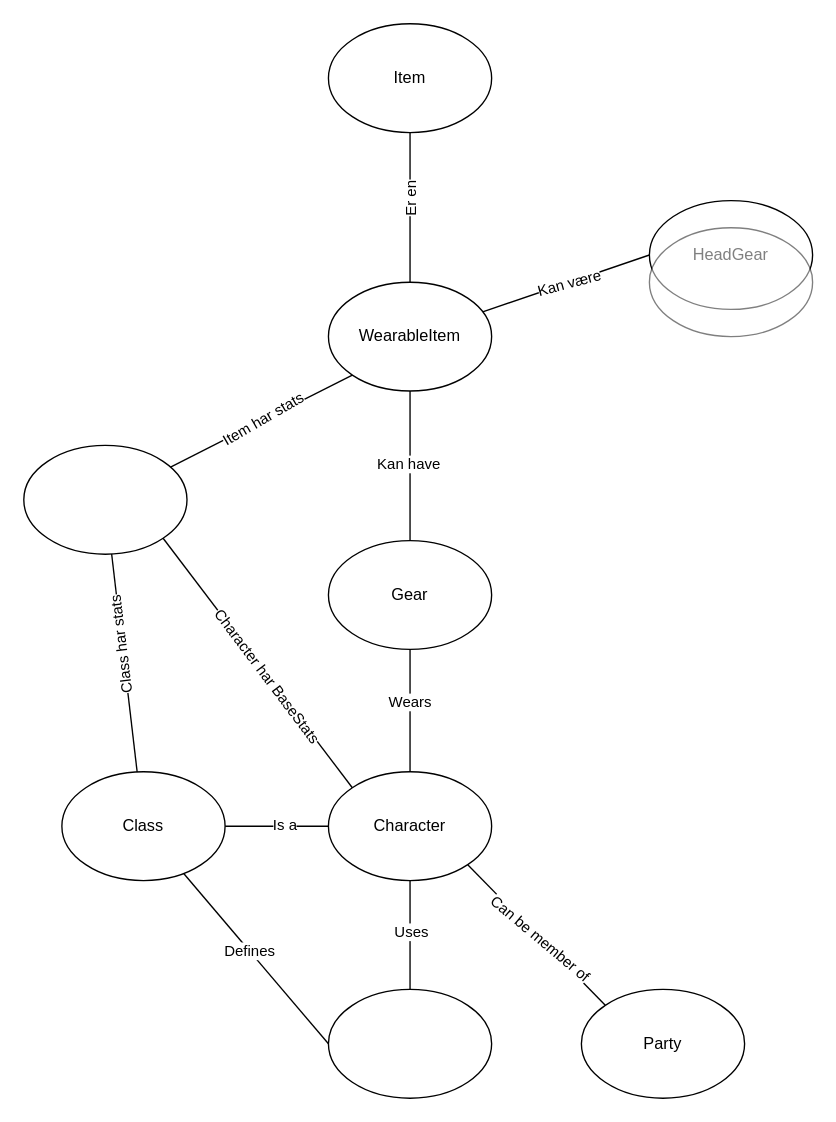
The diagram is 836 pixels wide and 1122 high, and some of its shapes have lost their labels. The centre of each missing label's shape, as x and y in pixels:
"Actions" goes at (x=409, y=1043).
"Stats" goes at (x=104, y=499).
"WeaponGear" goes at (x=730, y=281).
